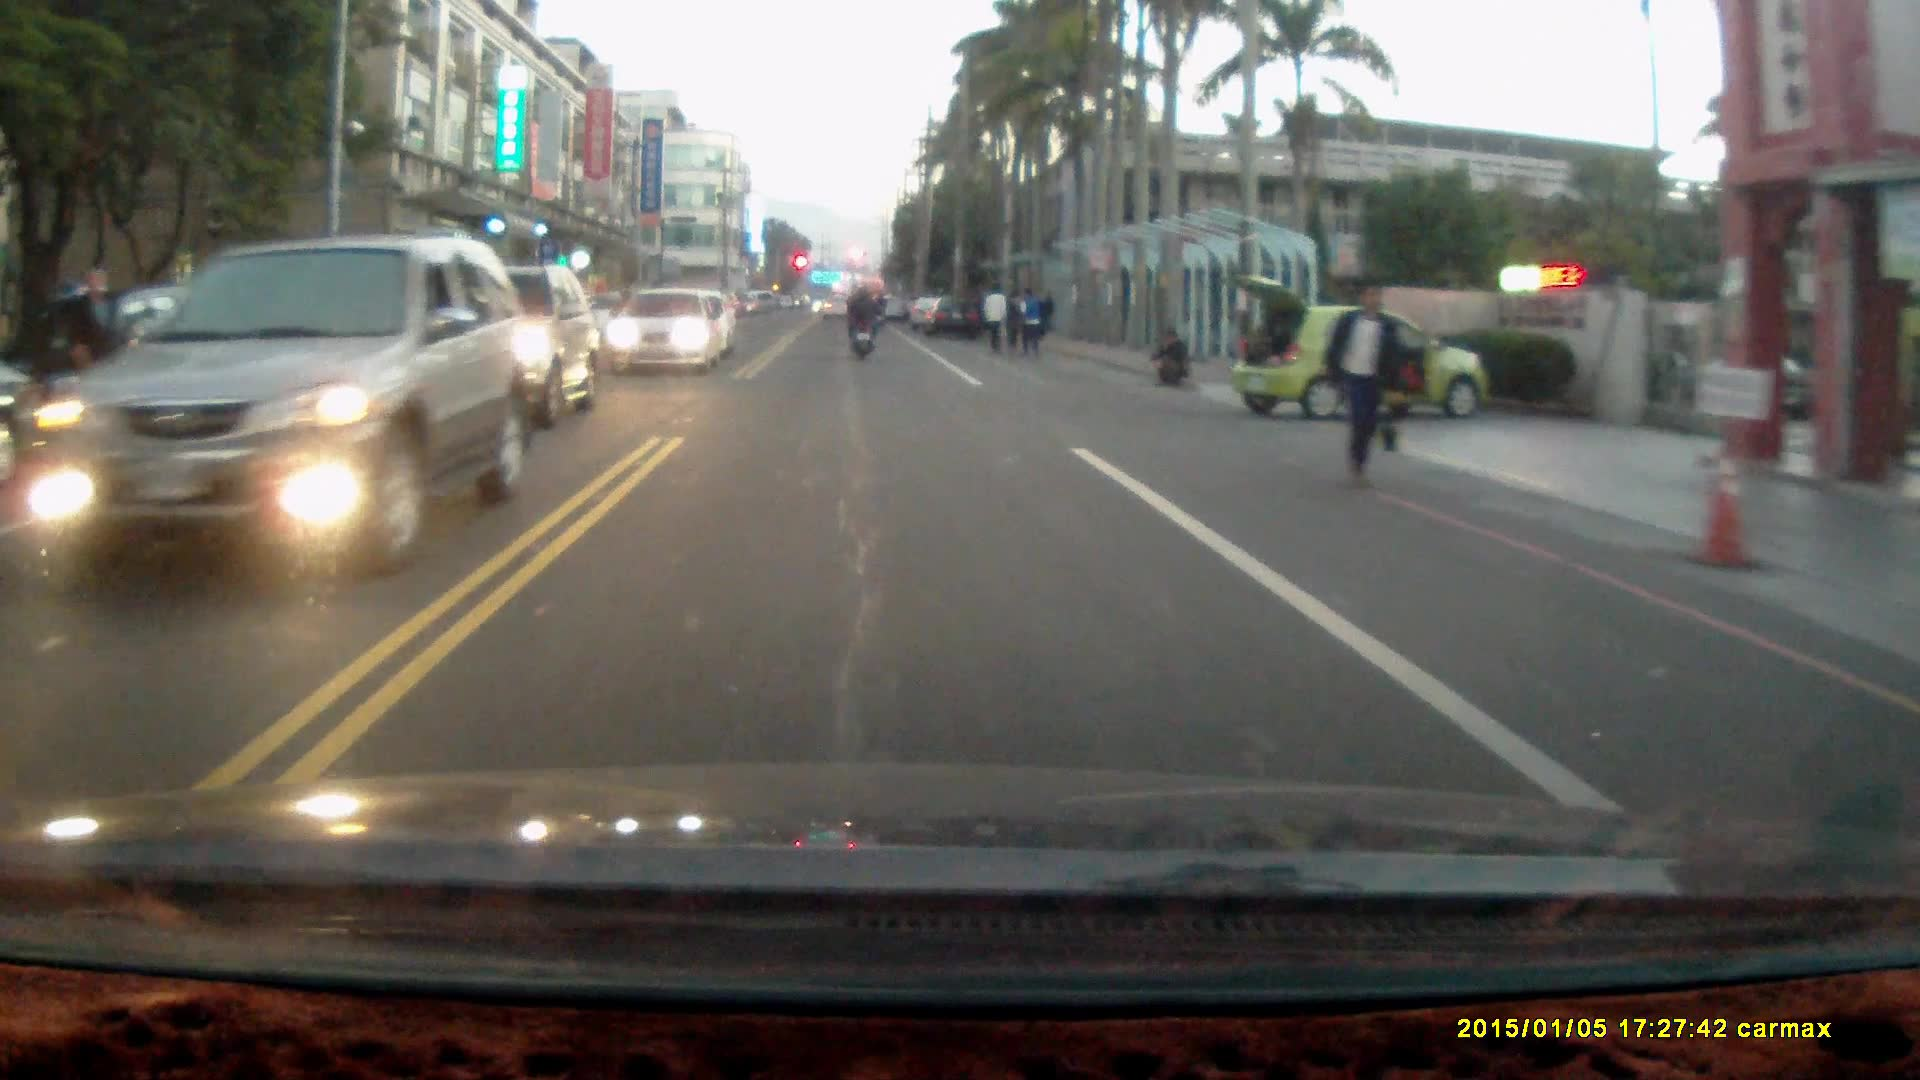pedestrian: (1322, 278, 1407, 498), (1151, 324, 1189, 388), (1019, 281, 1046, 360), (986, 283, 1010, 358), (1002, 285, 1025, 354)
rider: (841, 281, 879, 359)
vehicle: (29, 232, 526, 583), (1225, 269, 1495, 419), (383, 260, 605, 430), (611, 282, 723, 371), (929, 295, 986, 340)
